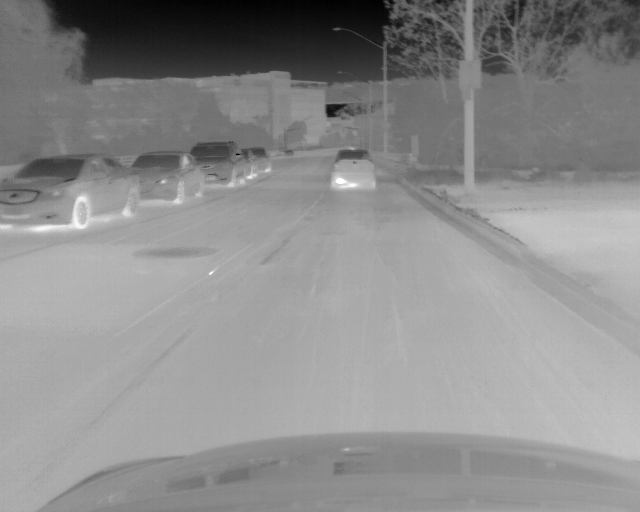car: (1, 153, 143, 233), (130, 151, 206, 204), (191, 140, 248, 187), (328, 149, 379, 189), (248, 148, 270, 175)
